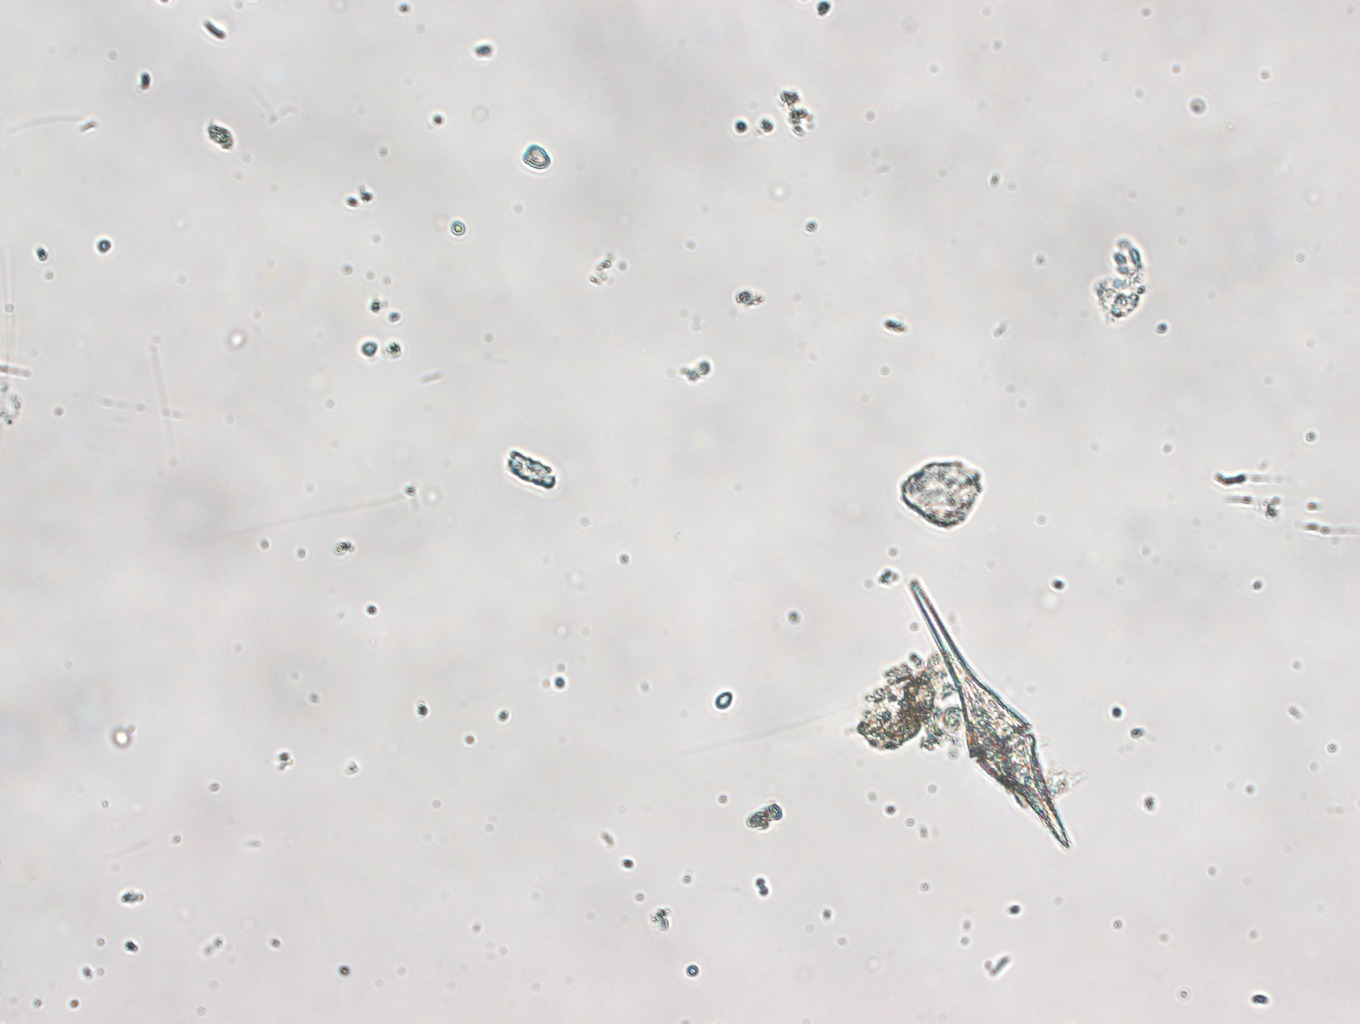ceratium furca: (910, 578, 1073, 853)
